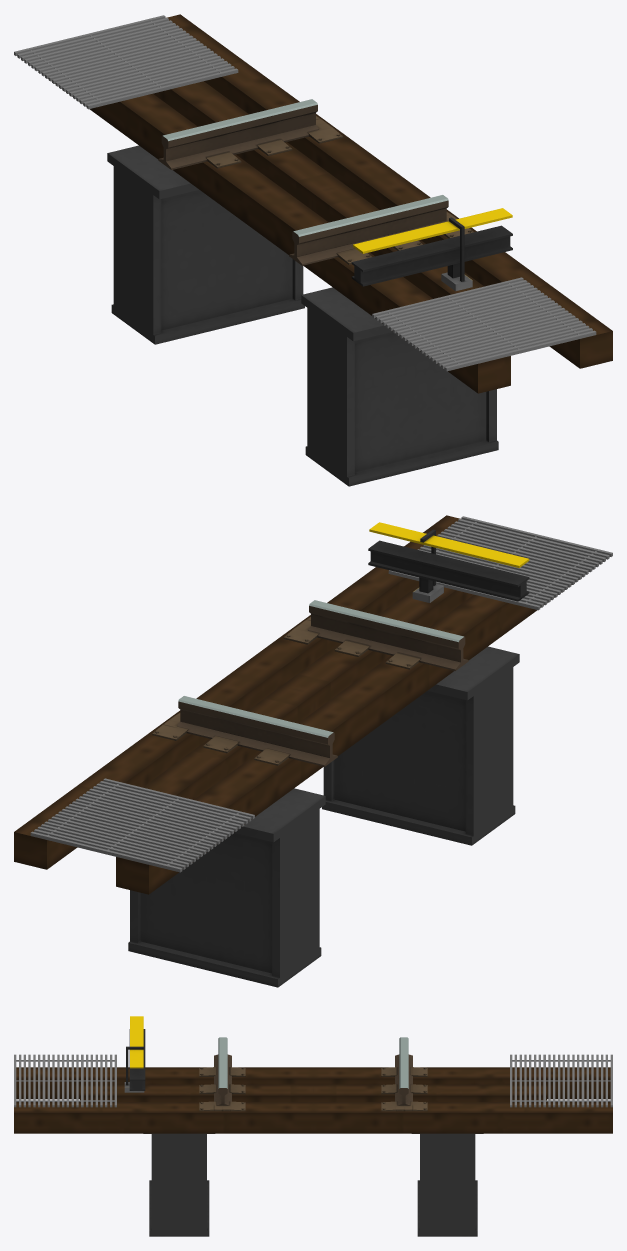
File: spsf_tracks_bridge2.obj
The picture shows the model from 3 angles, top to bottom: view 1: azimuth 30°, elevation 25°; view 2: azimuth 150°, elevation 25°; view 3: azimuth 270°, elevation 25°; orthographic projection. The views are drawn at different scales.
Parts seen in each view (by area): view 1: RAIL_BASE.004_Cube, RAIL_BASE.003_RAIL_BASE.006, RAIL_BASE_Cube.007, RAIL_BASE.002_Cube.004, RAIL_RIGHT_Cube.010, RAIL_LEFT_Cube.002, RAIL_BASE.005_Cube.003; view 2: RAIL_BASE.004_Cube, RAIL_BASE.003_RAIL_BASE.006, RAIL_BASE_Cube.007, RAIL_BASE.002_Cube.004, RAIL_RIGHT_Cube.010, RAIL_LEFT_Cube.002, RAIL_BASE.005_Cube.003; view 3: RAIL_BASE.003_RAIL_BASE.006, RAIL_BASE.004_Cube, RAIL_BASE_Cube.007, RAIL_BASE.005_Cube.003, RAIL_BASE.002_Cube.004, RAIL_LEFT_Cube.002, RAIL_RIGHT_Cube.010.
Part boxes in pixels (<box>): RAIL_BASE.004_Cube: <box>107,145,498,486</box>; RAIL_BASE.003_RAIL_BASE.006: <box>48,14,612,393</box>; RAIL_BASE_Cube.007: <box>14,15,596,371</box>; RAIL_BASE.002_Cube.004: <box>351,208,512,291</box>; RAIL_RIGHT_Cube.010: <box>158,99,318,169</box>; RAIL_LEFT_Cube.002: <box>289,195,448,265</box>; RAIL_BASE.005_Cube.003: <box>206,116,473,264</box>; RAIL_BASE.004_Cube: <box>128,646,519,987</box>; RAIL_BASE.003_RAIL_BASE.006: <box>14,515,578,894</box>; RAIL_BASE_Cube.007: <box>30,516,612,872</box>; RAIL_BASE.002_Cube.004: <box>368,522,529,602</box>; RAIL_RIGHT_Cube.010: <box>177,696,337,766</box>; RAIL_LEFT_Cube.002: <box>308,600,468,670</box>; RAIL_BASE.005_Cube.003: <box>152,617,420,765</box>; RAIL_BASE.003_RAIL_BASE.006: <box>14,1067,612,1133</box>; RAIL_BASE.004_Cube: <box>143,1133,483,1236</box>; RAIL_BASE_Cube.007: <box>14,1054,612,1107</box>; RAIL_BASE.005_Cube.003: <box>199,1067,427,1111</box>; RAIL_BASE.002_Cube.004: <box>124,1016,145,1092</box>; RAIL_LEFT_Cube.002: <box>214,1037,231,1105</box>; RAIL_RIGHT_Cube.010: <box>395,1037,412,1105</box>.
Bounding box in the file's own units: 1.11 × 1.58 × 5.
1 material, 1 textured.
